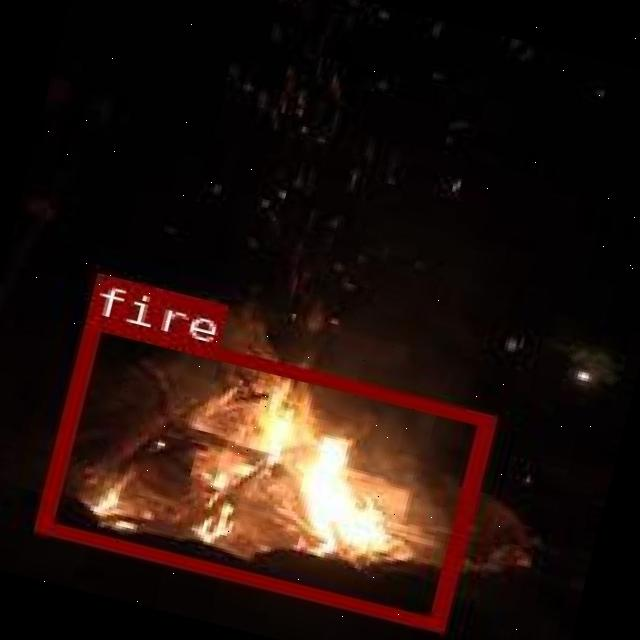fire: (34, 312, 494, 628)
